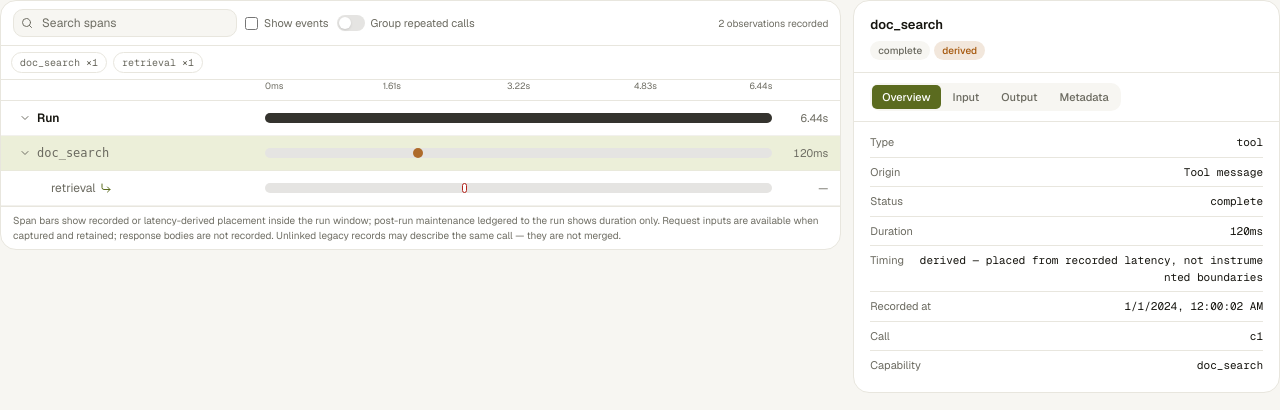
Scenario: RunTimeline — corrections › search matches inside collapsed parents and hides nothing visible
This screenshot has width=1280, height=410.
collapse tool root, then search for the child — it must surface
Click the 1st button named "Collapse": (25, 118) left=17, top=110, right=33, bottom=126
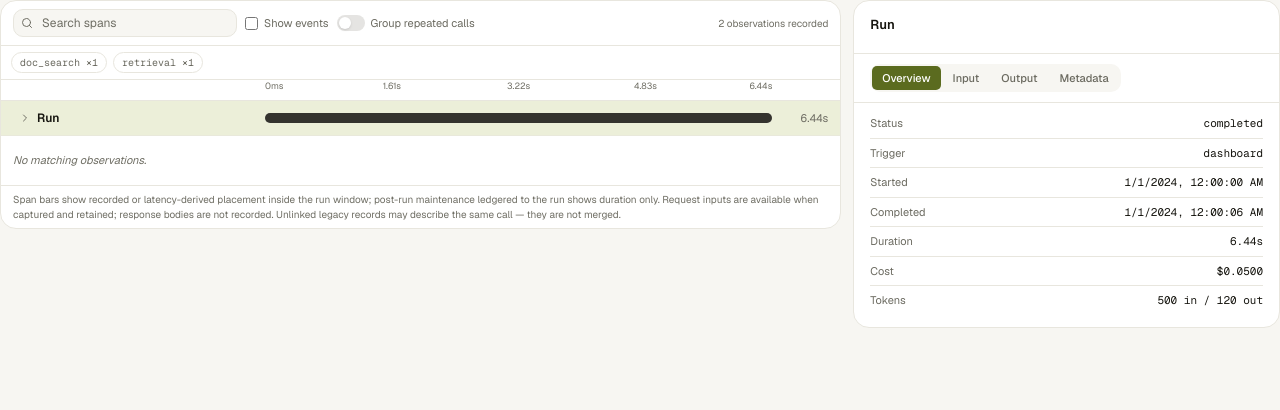
Expected: the list item with test id "trace-row-child-1" is gone
In the field named "Search trace spans": (125, 23) left=13, top=9, right=237, bottom=37, type "retrieval"
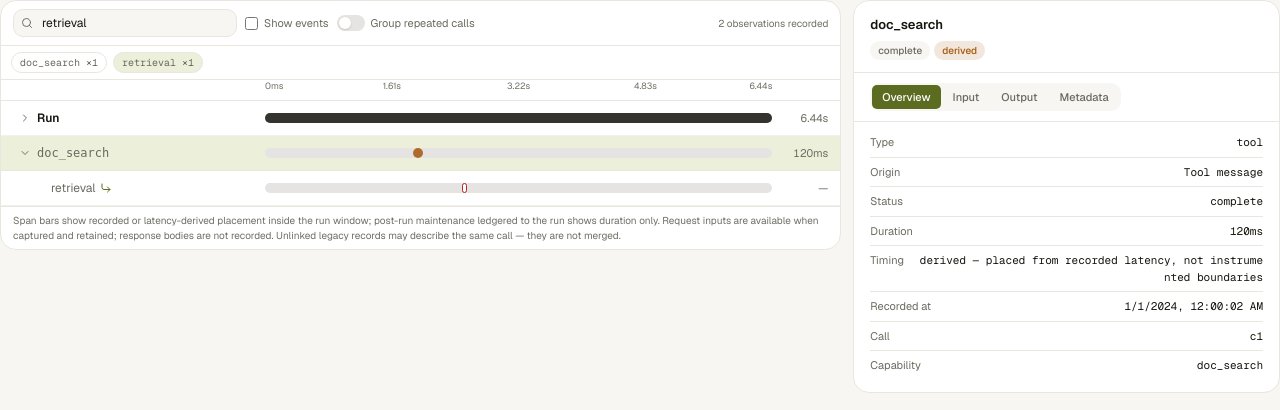
Expected: the list item with test id "trace-row-child-1" is shown, left=1, top=171, right=840, bottom=206
Replace the text in the field named "Search trace spans" with "zzzz-nothing": (125, 23) left=13, top=9, right=237, bottom=37
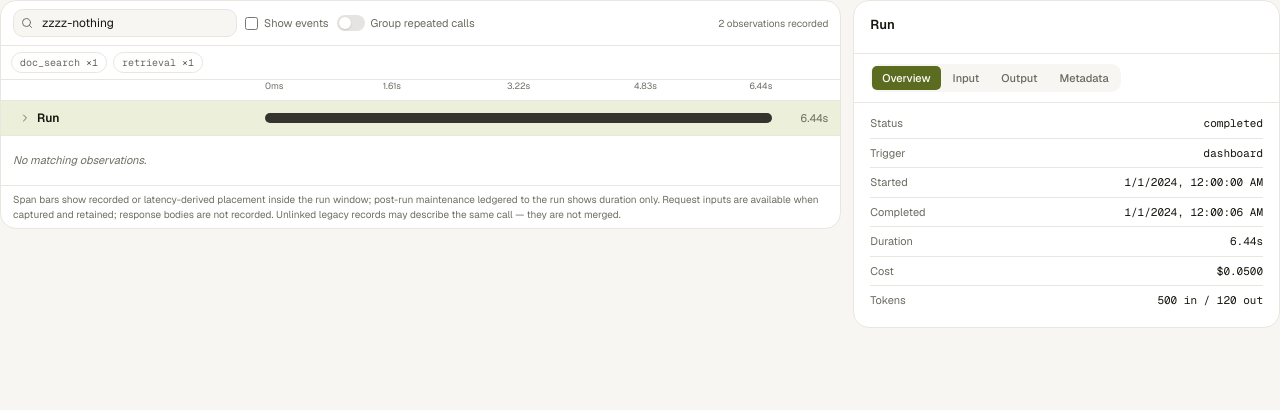
Expected: the text "No matching observations." is shown, left=13, top=153, right=146, bottom=167
